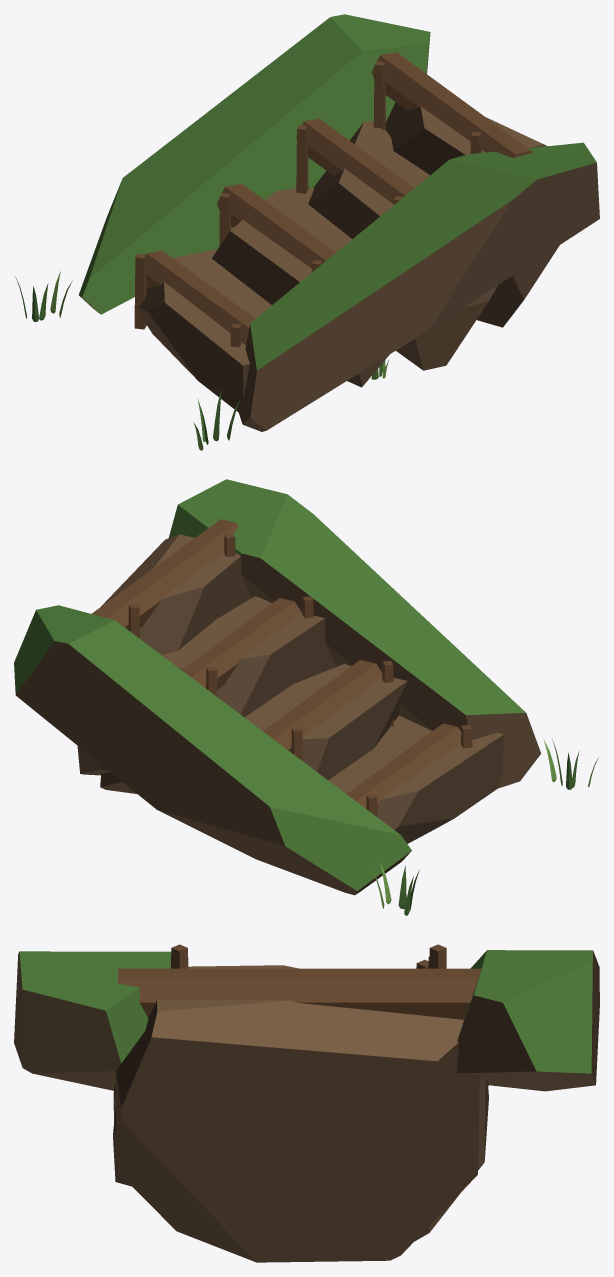
Rendered from mdvl_nature_steps_dirt_01.glb.
3 views of the same model, one above another, from view 1: azimuth 30°, elevation 25°; view 2: azimuth 150°, elevation 25°; view 3: azimuth 270°, elevation 25° (orthographic). The views are drawn at different scales.
Parts seen in each view (by area): view 1: mdvl_nature_steps_dirt_01; view 2: mdvl_nature_steps_dirt_01; view 3: mdvl_nature_steps_dirt_01.
Boxes of the visible parts, left/top/right/bottom form: mdvl_nature_steps_dirt_01: left=15, top=14, right=599, bottom=450; mdvl_nature_steps_dirt_01: left=14, top=479, right=598, bottom=915; mdvl_nature_steps_dirt_01: left=14, top=944, right=599, bottom=1262.
Bounding box in the file's own units: 2.13 × 1.03 × 1.95.
Materials: 1 (1 with a texture image).
